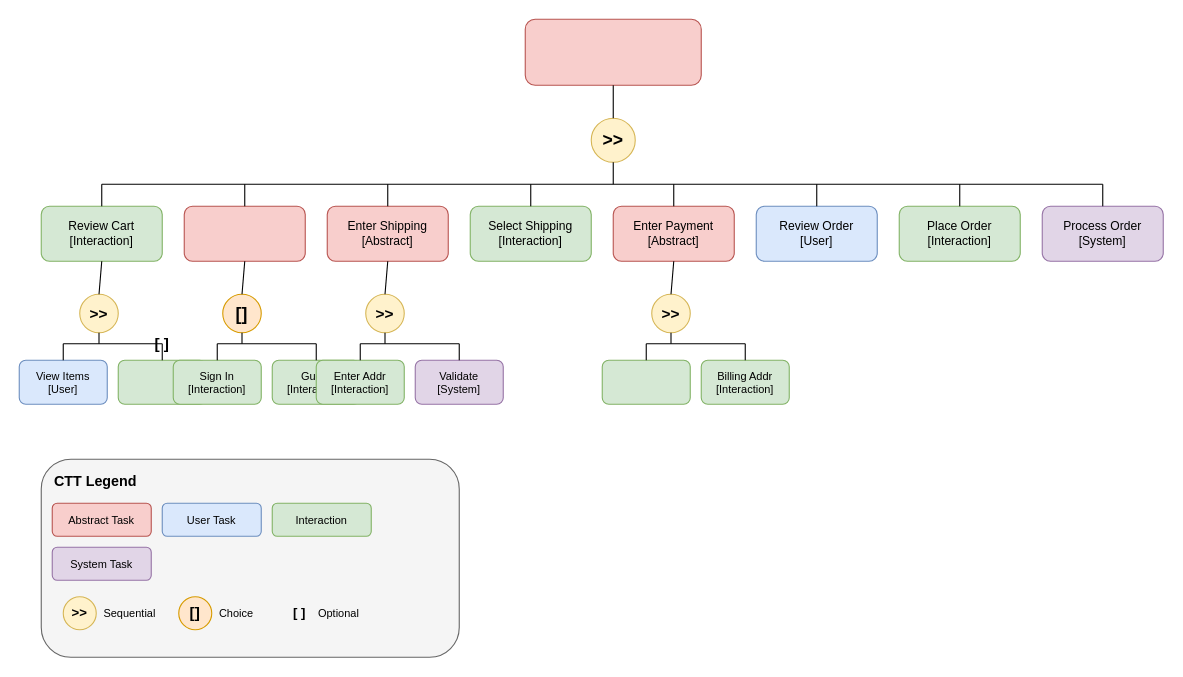
Some shapes in this 1183 by 677 pixel diagram are drawn without their labels. The shapes that lost their labels are listed below. From the top down, each one's centre as x and y in pixels, then its label:
At point (612, 51): "Complete Checkout [Abstract]".
At point (244, 233): "Authenticate [Abstract]".
At point (161, 381): "Update Qty [Interaction]".
At point (645, 381): "Card Info [Interaction]".
